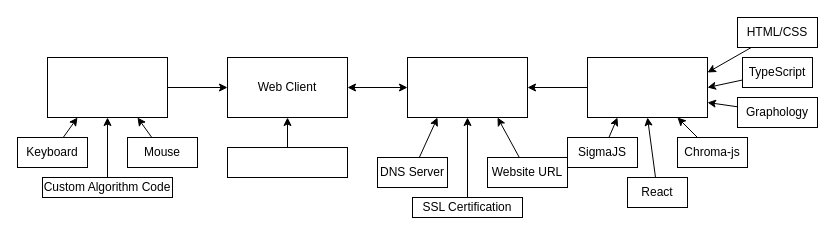
Image size: 835x235. Some labels were removed from this diagram. The shapes that lost their labels are listed below. From the top down, each one's centre as x and y in pixels, then its label:
At (107,87): "User".
At (467,87): "Web".
At (647,87): "Website Source".
At (287,162): "Javascript Engine".
